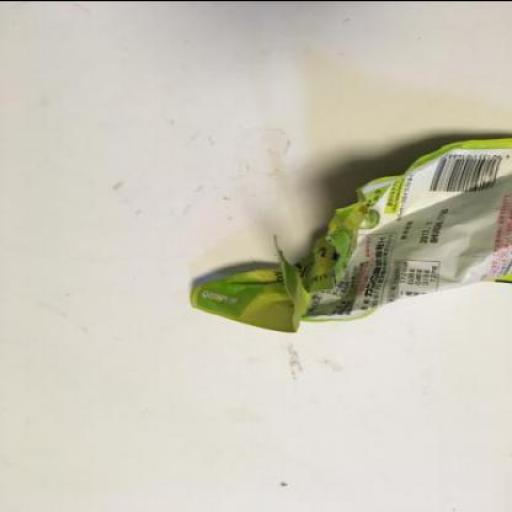plastic: (190, 137, 510, 333)
